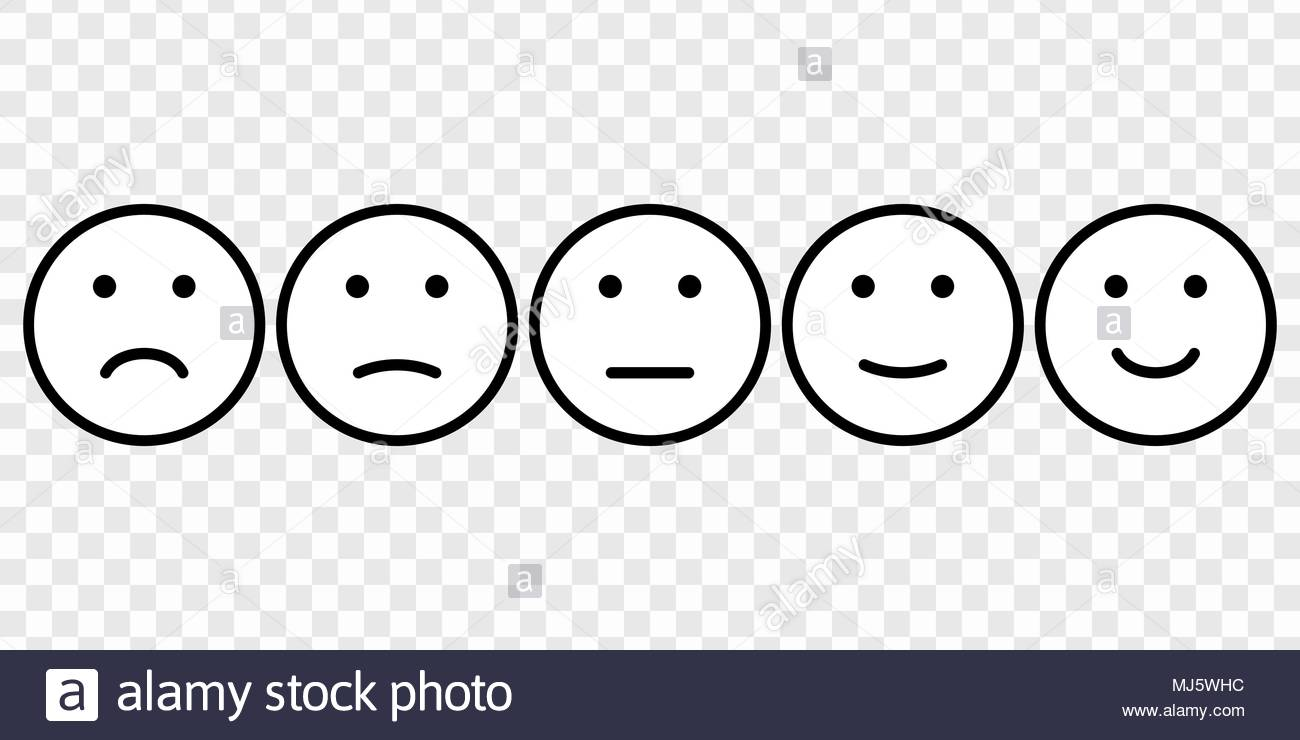feliz: (774, 193, 1045, 437), (1043, 195, 1279, 465), (1092, 262, 1226, 388), (831, 270, 966, 391)
